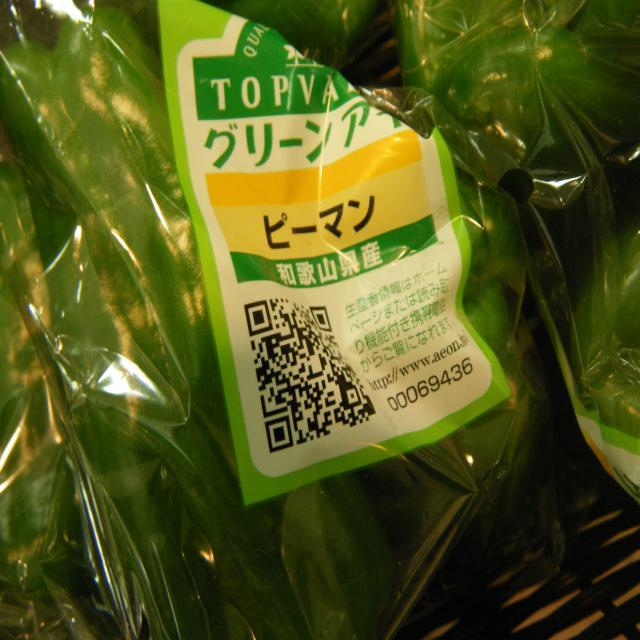qr-code: (244, 298, 378, 452)
